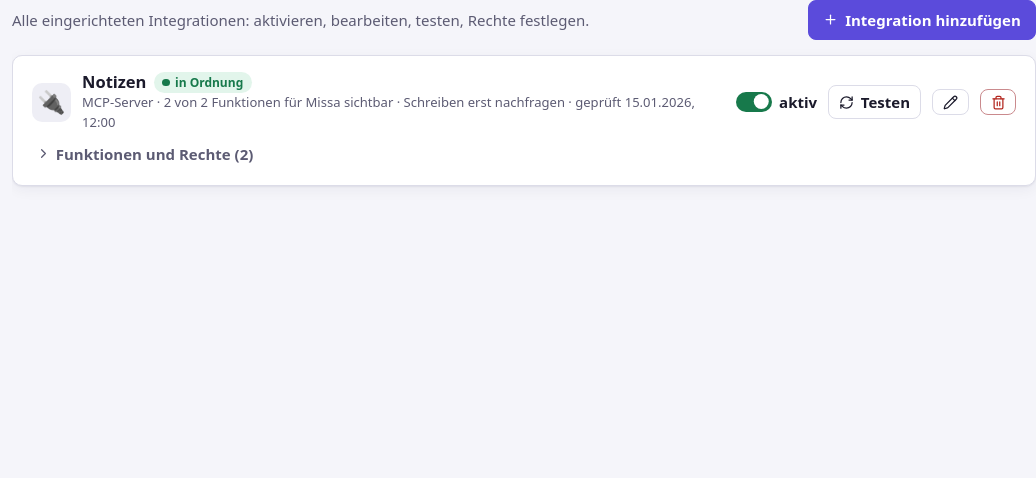
Test: Integration deaktivieren, Recht ändern, erneut testen
Expected: the text "in Ordnung" is shown, x1=154 y1=72 x2=252 y2=93
Expected: the text "2 von 2 Funktionen für Missa sichtbar" is shown, x1=164 y1=93 x2=393 y2=111
Click the button "Funktionen und Rechte (2)" at (145, 154), box x1=32 y1=140 x2=258 y2=168
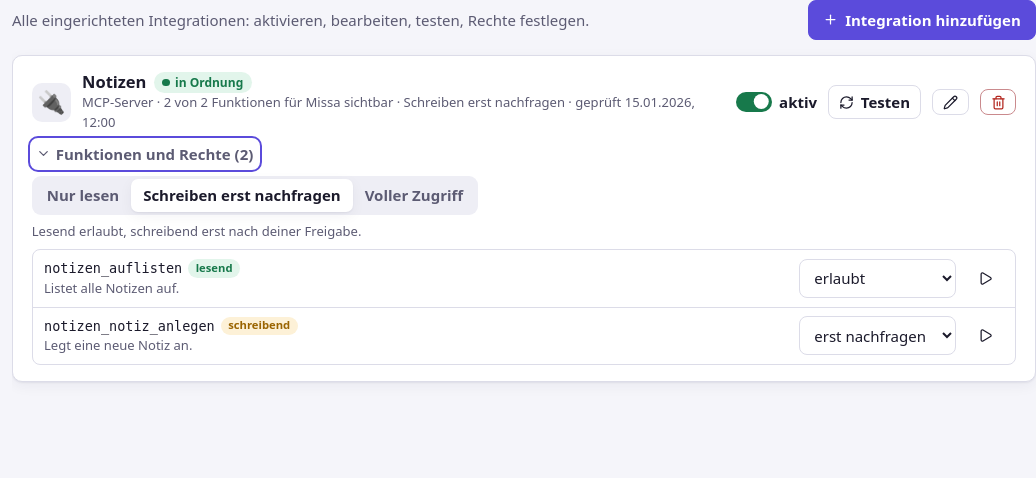
Expected: the text "notizen_notiz_anlegen" is shown, x1=44 y1=316 x2=215 y2=336
Select "gesperrt" in the dropdown named "Recht für notiz_anlegen" at (878, 336), box x1=799 y1=316 x2=956 y2=355
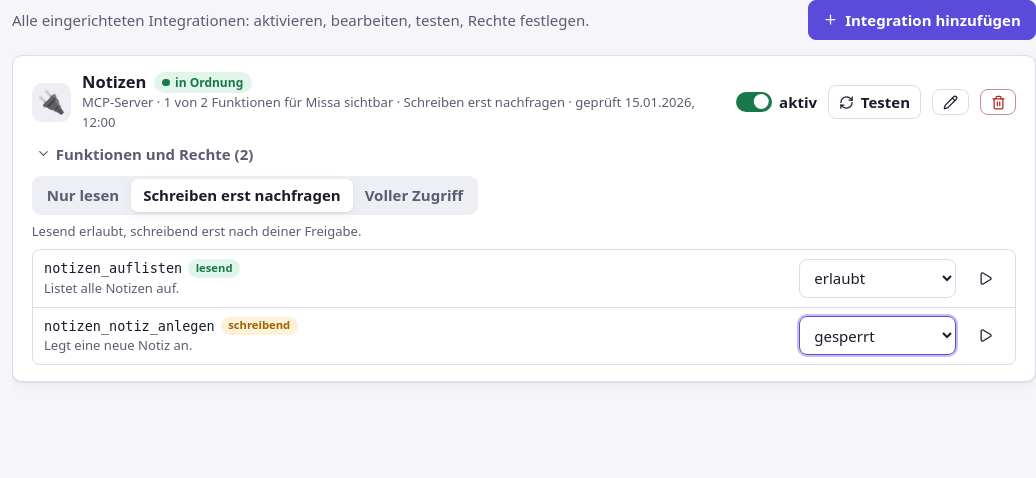
Expected: the text "1 von 2 Funktionen" is shown, x1=164 y1=93 x2=393 y2=111
Click the checkbox named "Notizen aktiv" at (754, 102), box x1=736 y1=92 x2=772 y2=112
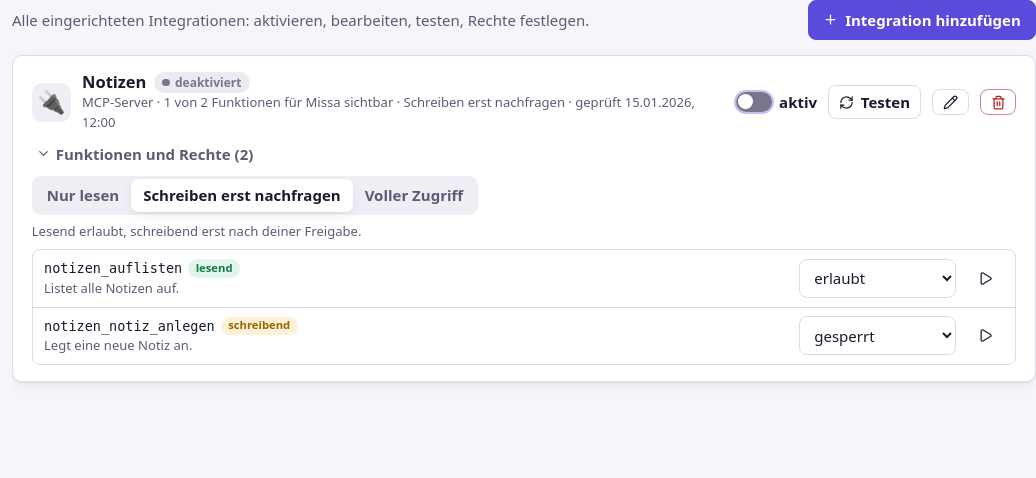
Expected: the text "deaktiviert" is shown, x1=154 y1=72 x2=250 y2=93
Click the checkbox named "Notizen aktiv" at (754, 102), box x1=736 y1=92 x2=772 y2=112
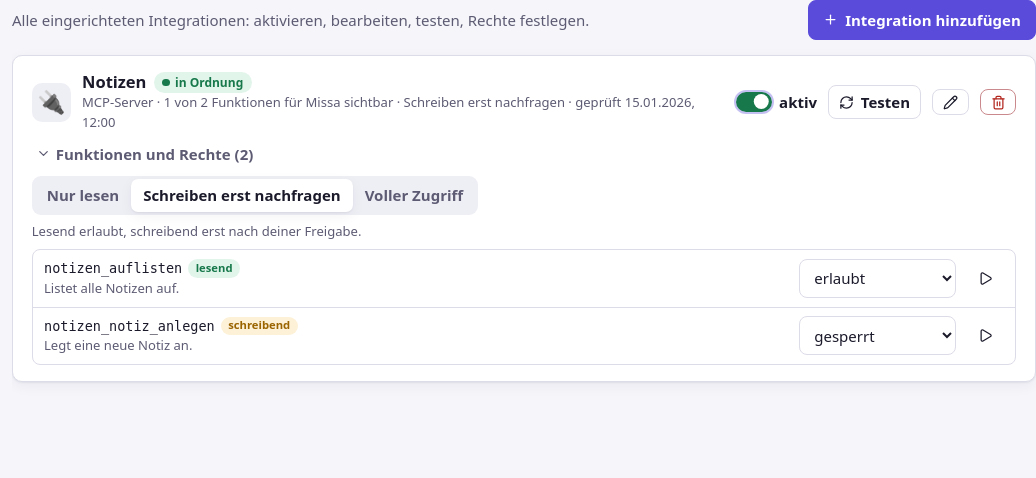
Click the button "Testen" at (874, 102), box x1=828 y1=85 x2=921 y2=119
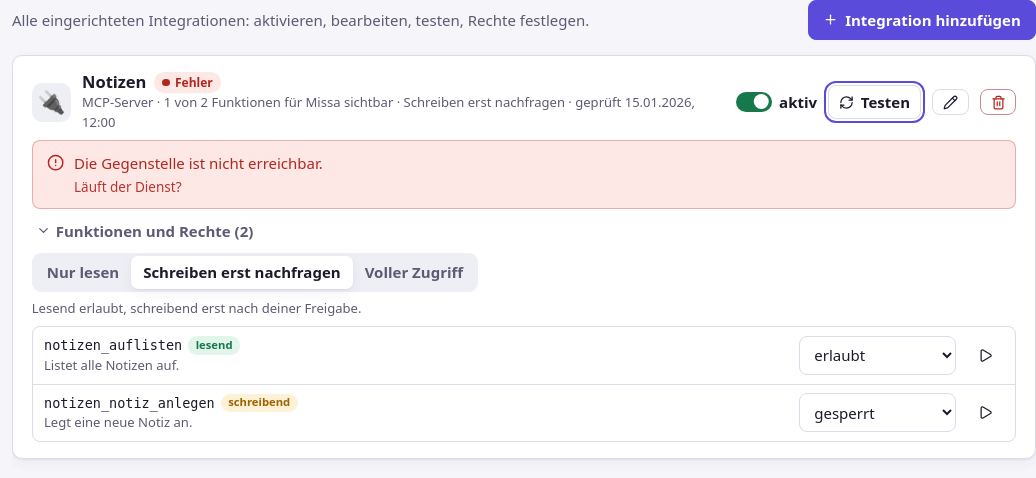
Expected: the message shows "Die Gegenstelle ist nicht erreichbar.", x1=74 y1=153 x2=323 y2=173
Expected: the message shows "Läuft der Dienst?", x1=74 y1=178 x2=182 y2=196
